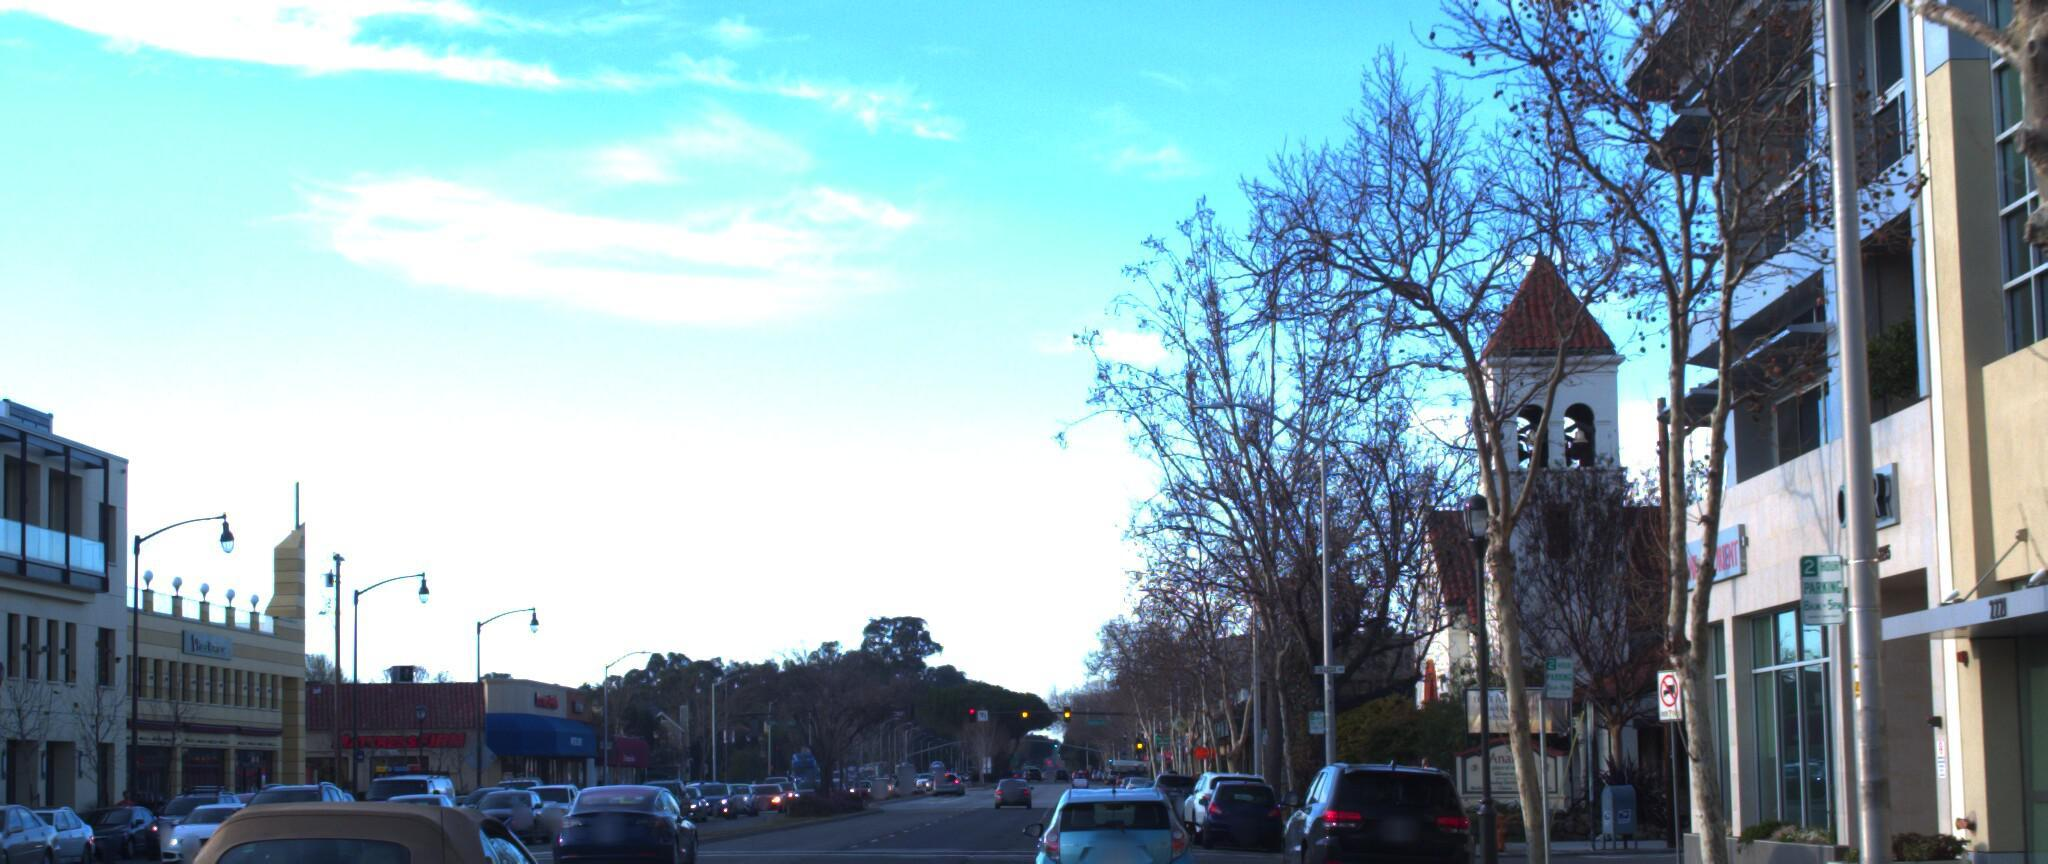car: (82, 780, 614, 864), (1271, 752, 1484, 864), (1031, 770, 1192, 864), (545, 767, 697, 864), (137, 795, 266, 863), (0, 794, 115, 864), (1176, 758, 1272, 838), (0, 792, 106, 864), (1196, 767, 1279, 844), (2000, 807, 2048, 864), (0, 787, 17, 864)
